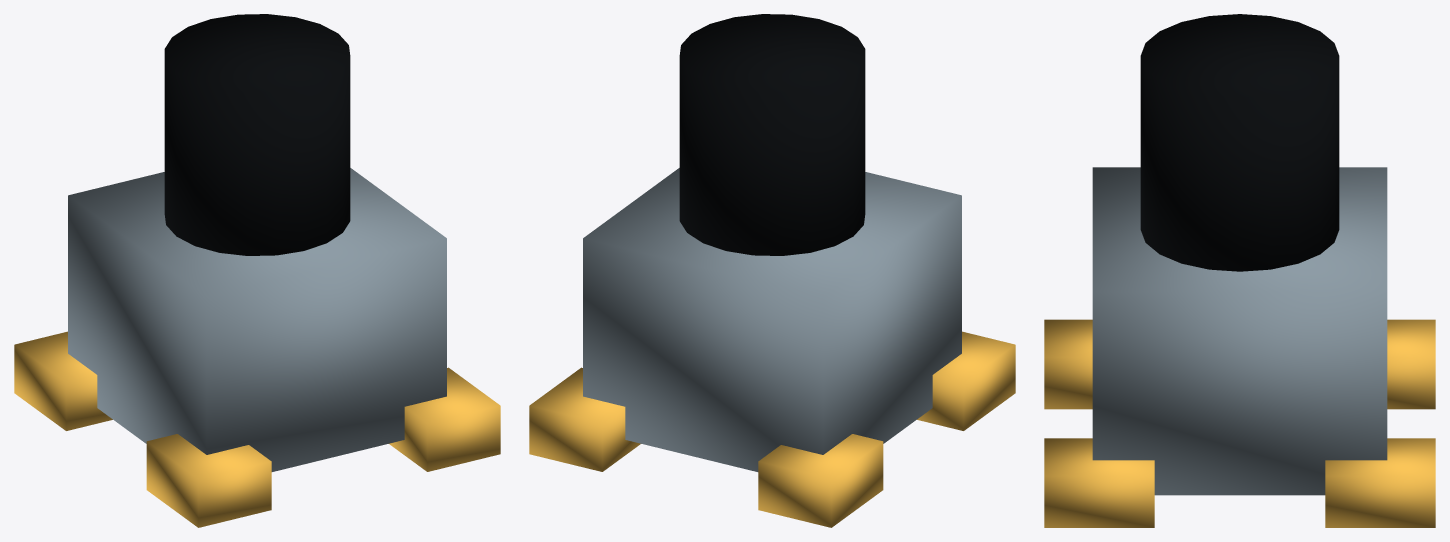
Rendered from 40_L94_SW1_TactileReset.fbx.
The picture shows the model from 3 angles, left to right: view 1: azimuth 30°, elevation 25°; view 2: azimuth 150°, elevation 25°; view 3: azimuth 270°, elevation 25°; orthographic projection. The views are drawn at different scales.
Visible parts, largest first — view 1: L94_TactileReset_Part_0000, L94_TactileReset_Part_0001, L94_TactileReset_Part_0002; view 2: L94_TactileReset_Part_0000, L94_TactileReset_Part_0001, L94_TactileReset_Part_0002; view 3: L94_TactileReset_Part_0000, L94_TactileReset_Part_0001, L94_TactileReset_Part_0002.
Boxes of the visible parts, <box> form: L94_TactileReset_Part_0000: <box>68,168,446,471</box>; L94_TactileReset_Part_0001: <box>164,14,350,255</box>; L94_TactileReset_Part_0002: <box>14,331,500,527</box>; L94_TactileReset_Part_0000: <box>583,168,961,471</box>; L94_TactileReset_Part_0001: <box>679,14,865,255</box>; L94_TactileReset_Part_0002: <box>529,331,1015,527</box>; L94_TactileReset_Part_0000: <box>1092,167,1387,495</box>; L94_TactileReset_Part_0001: <box>1140,14,1339,271</box>; L94_TactileReset_Part_0002: <box>1044,319,1435,527</box>.
Size of the model in its own units: 9.09 by 10.65 by 9.59.
